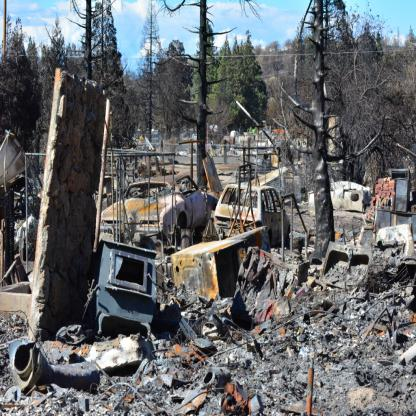Car: (214, 181, 292, 249)
